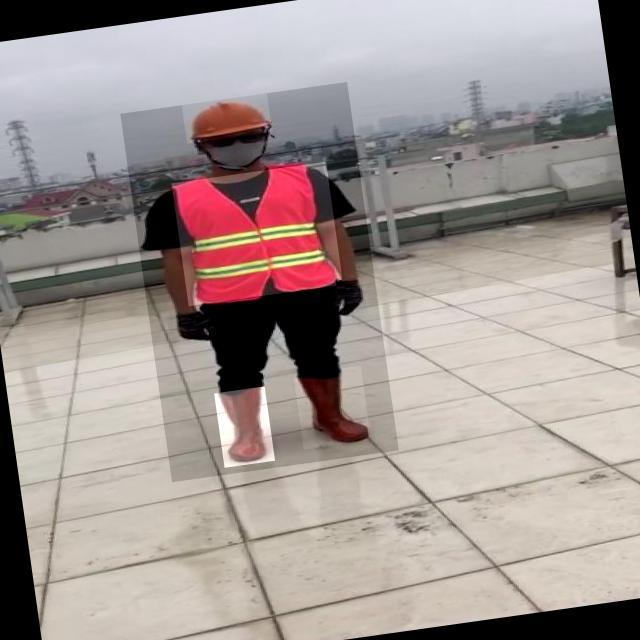Gloves: (167, 308, 221, 347), (336, 276, 369, 316)
Helmet: (182, 93, 273, 144)
Human: (120, 83, 399, 483)
Safety Boot: (294, 366, 372, 450), (215, 386, 277, 468)
Safety Vest: (172, 162, 344, 307)
